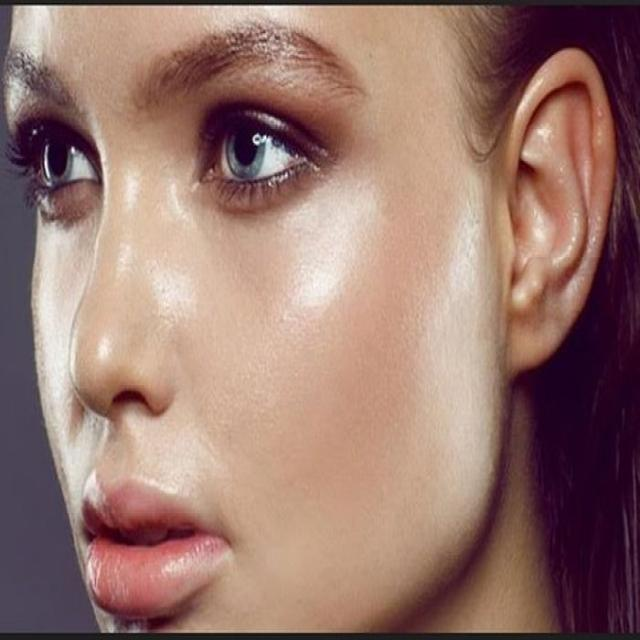Oily-Skin: (217, 205, 414, 492), (76, 222, 132, 375)
